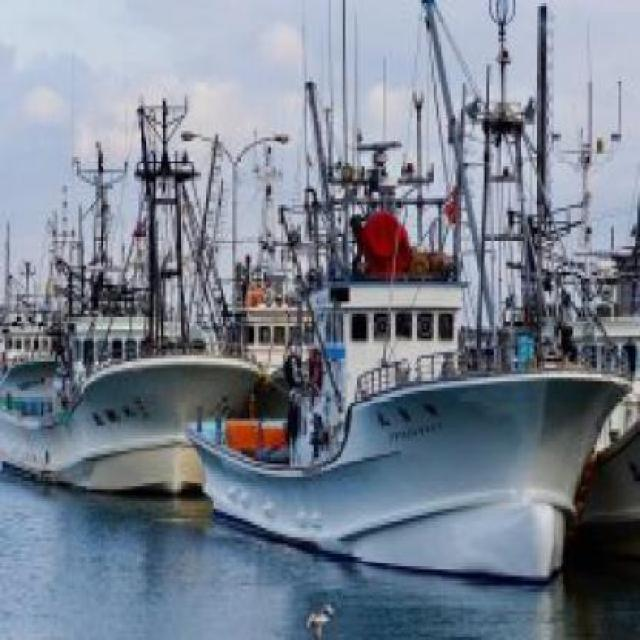fish-b: (183, 218, 639, 593), (4, 104, 270, 504)
